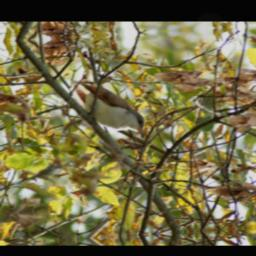Cuckoo: (76, 69, 153, 144)
